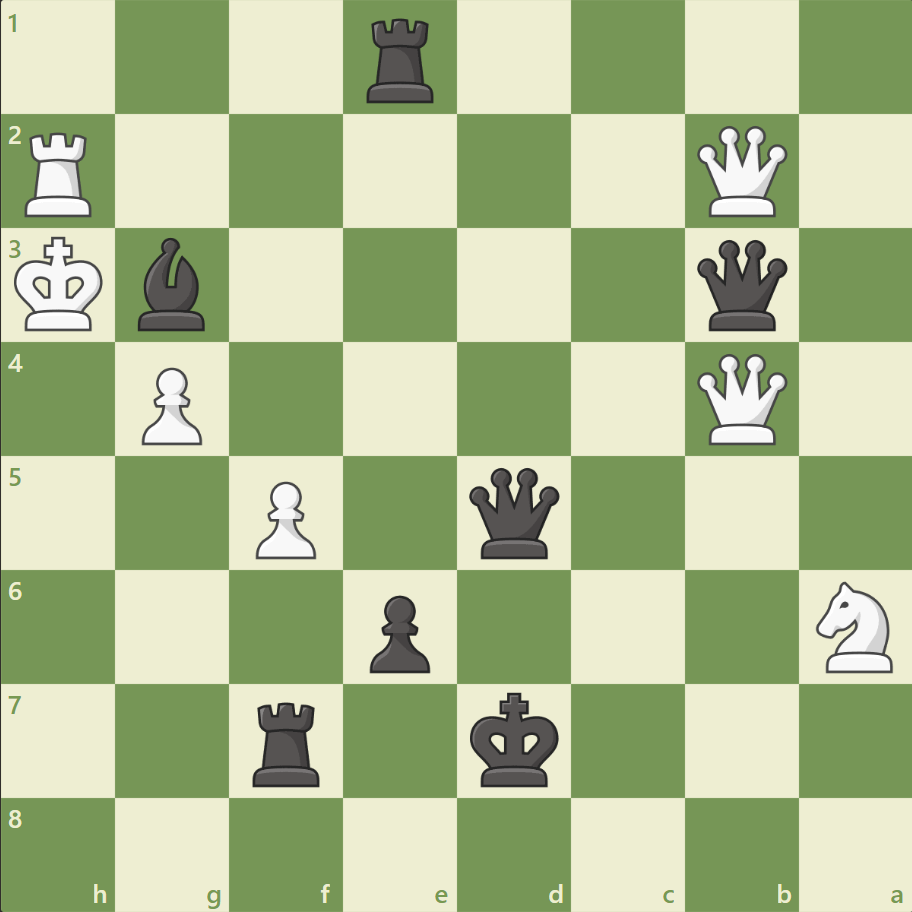K: (11, 231, 111, 339)
N: (806, 575, 903, 677)
P: (247, 473, 322, 564), (133, 359, 208, 450)
Q: (691, 349, 790, 449), (691, 122, 790, 222)
R: (19, 125, 102, 222)
b: (131, 233, 215, 336)
k: (465, 685, 565, 793)
p: (361, 586, 435, 677)
q: (464, 463, 563, 562), (691, 236, 790, 335)
r: (246, 693, 329, 790), (360, 12, 442, 109)
